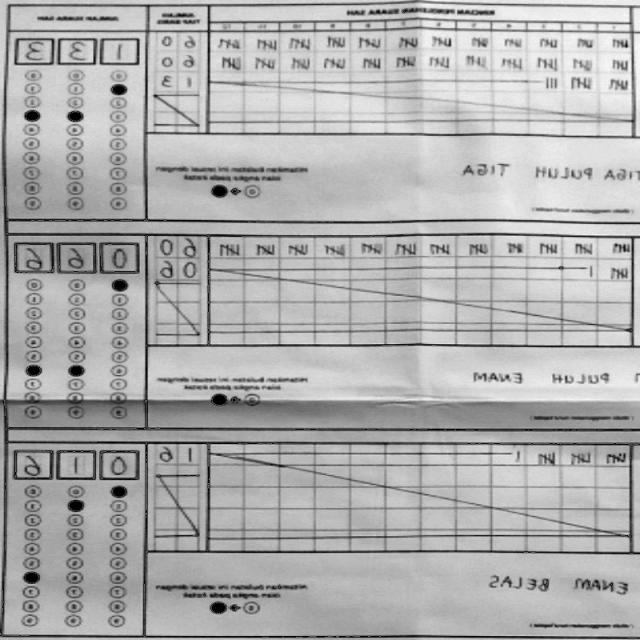Suara: (10, 236, 144, 274), (10, 450, 145, 487), (10, 30, 144, 67)
